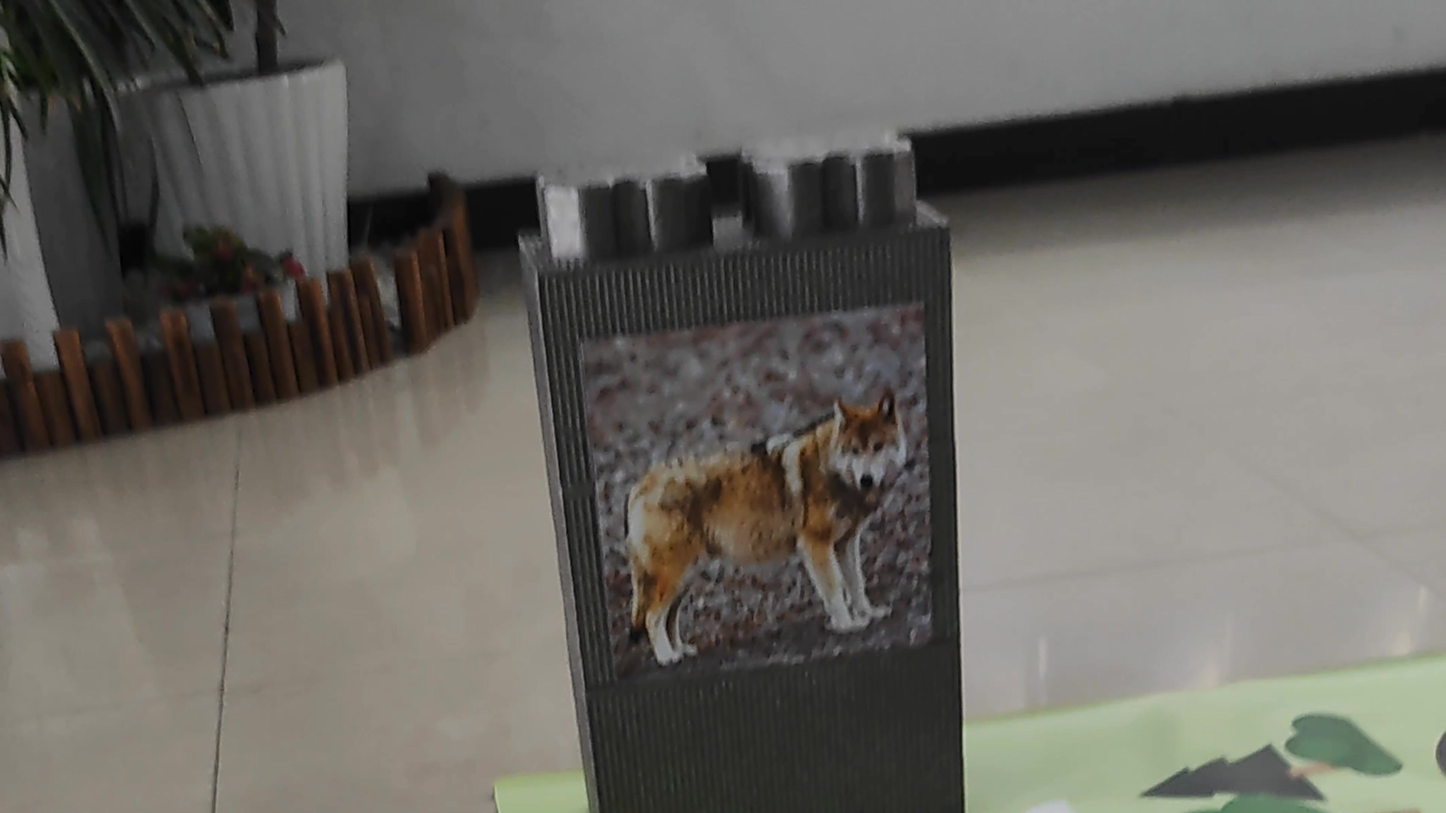wolf: (602, 358, 925, 668)
